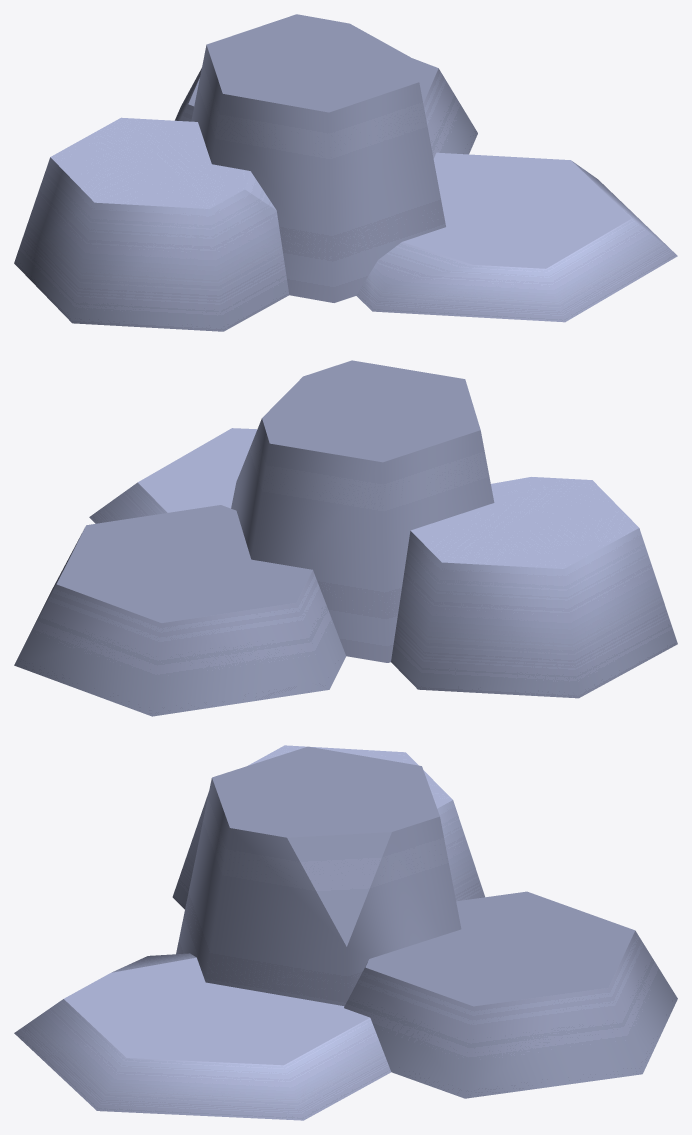
The model's file is detail-rocks.glb.
3 views of the same model, one above another, from view 1: azimuth 30°, elevation 25°; view 2: azimuth 150°, elevation 25°; view 3: azimuth 270°, elevation 25° (orthographic). The views are drawn at different scales.
Parts seen in each view (by area): view 1: detail-rocks; view 2: detail-rocks; view 3: detail-rocks.
Part boxes in pixels (x1,y1,x2,y2): detail-rocks: (14,14,677,331); detail-rocks: (14,360,677,716); detail-rocks: (14,745,677,1120).
Bounding box in the file's own units: 0.5975 × 0.1845 × 0.6055.
1 material, 1 textured.
